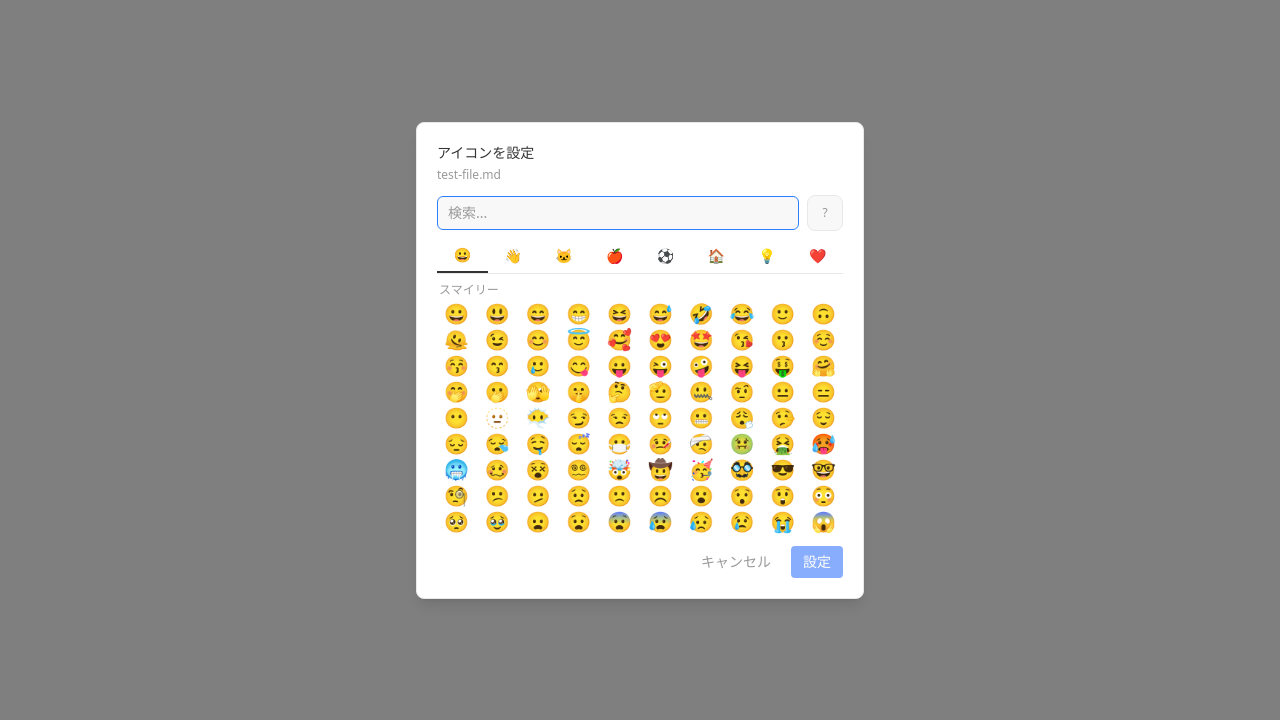
Test case: EmojiInputDialog › 検索するとマッチする絵文字のみ表示される
In the field named "絵文字を検索": (618, 212) [437, 196, 799, 230], type "fire"
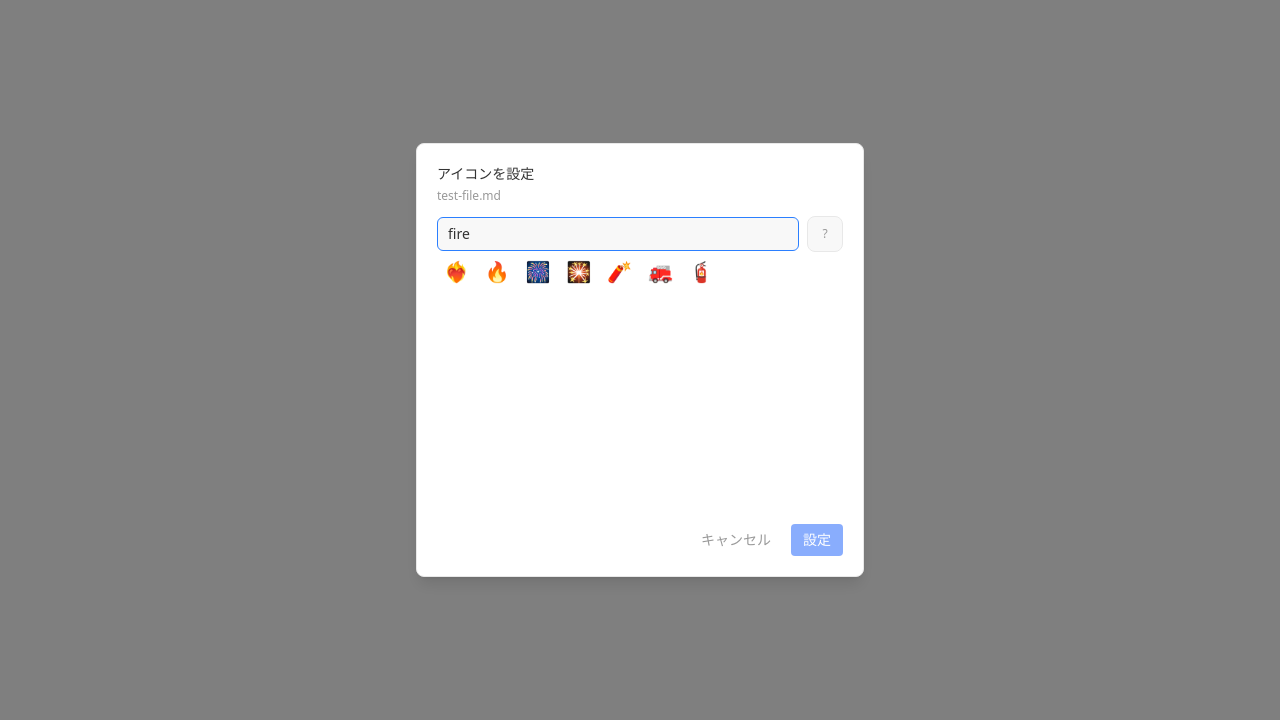
Expected: the button labelled "🔥" is shown, [478, 260, 517, 284]
Expected: the text "スマイリー" is gone
